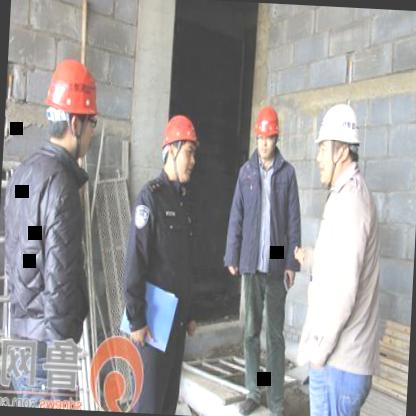helmet: (36, 45, 104, 165), (309, 94, 370, 192), (154, 104, 206, 193), (252, 100, 284, 160)
